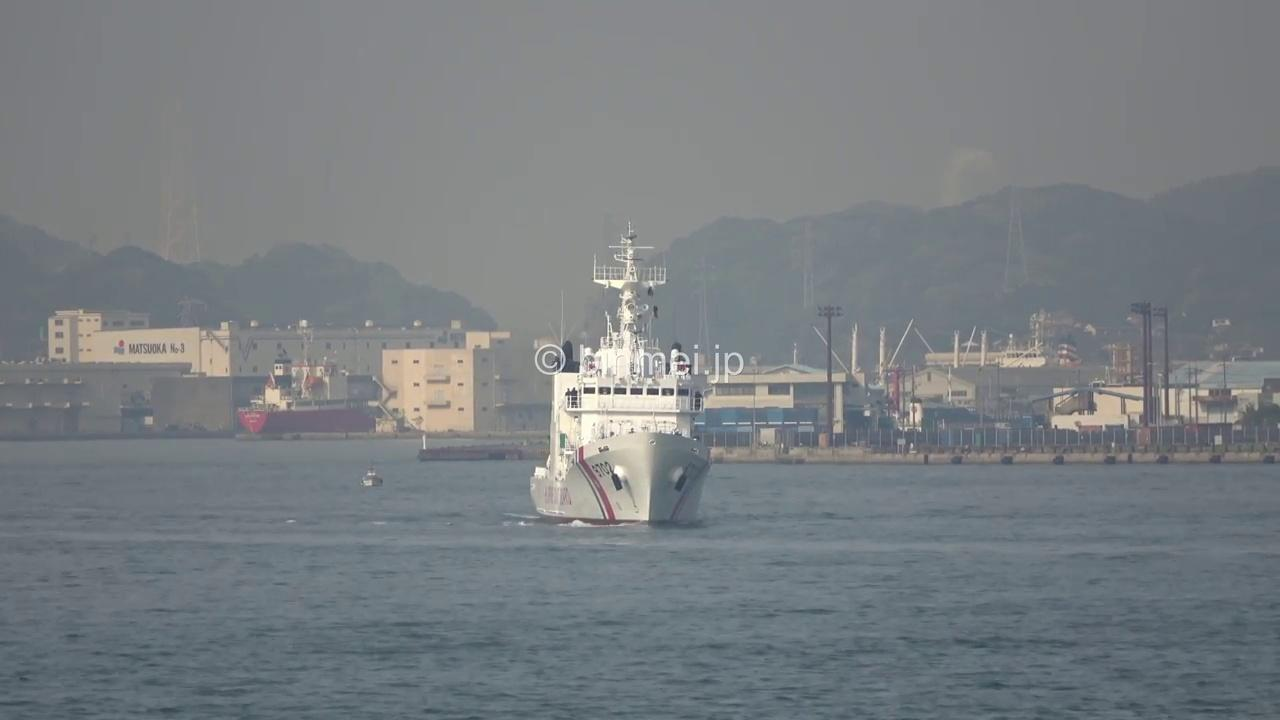Ship: (363, 468, 387, 489)
